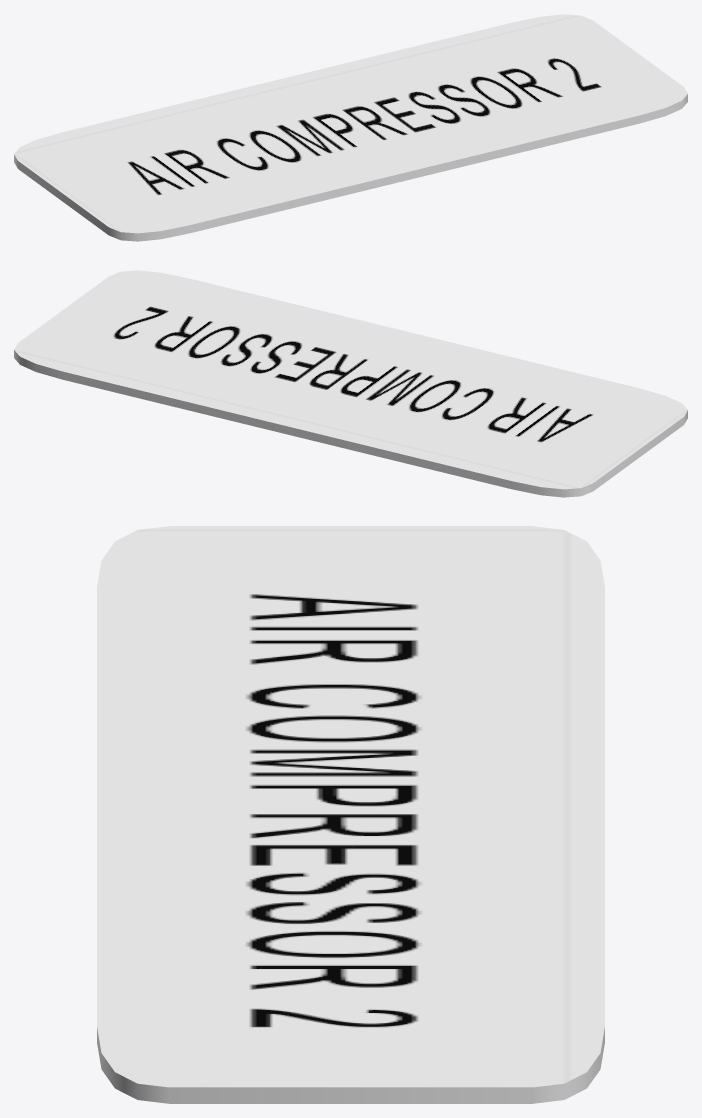
File: label_airComp2.fbx
3 views of the same model, one above another, from view 1: azimuth 30°, elevation 25°; view 2: azimuth 150°, elevation 25°; view 3: azimuth 270°, elevation 25° (orthographic). The views are drawn at different scales.
Visible parts, largest first — view 1: label_airComp2; view 2: label_airComp2; view 3: label_airComp2.
Part boxes in pixels (x1,y1,x2,y2): label_airComp2: [14, 14, 687, 241]; label_airComp2: [14, 270, 687, 497]; label_airComp2: [97, 526, 604, 1103].
Bounding box in the file's own units: 3.68 × 0.05 × 1.41.
1 material, 1 textured.
